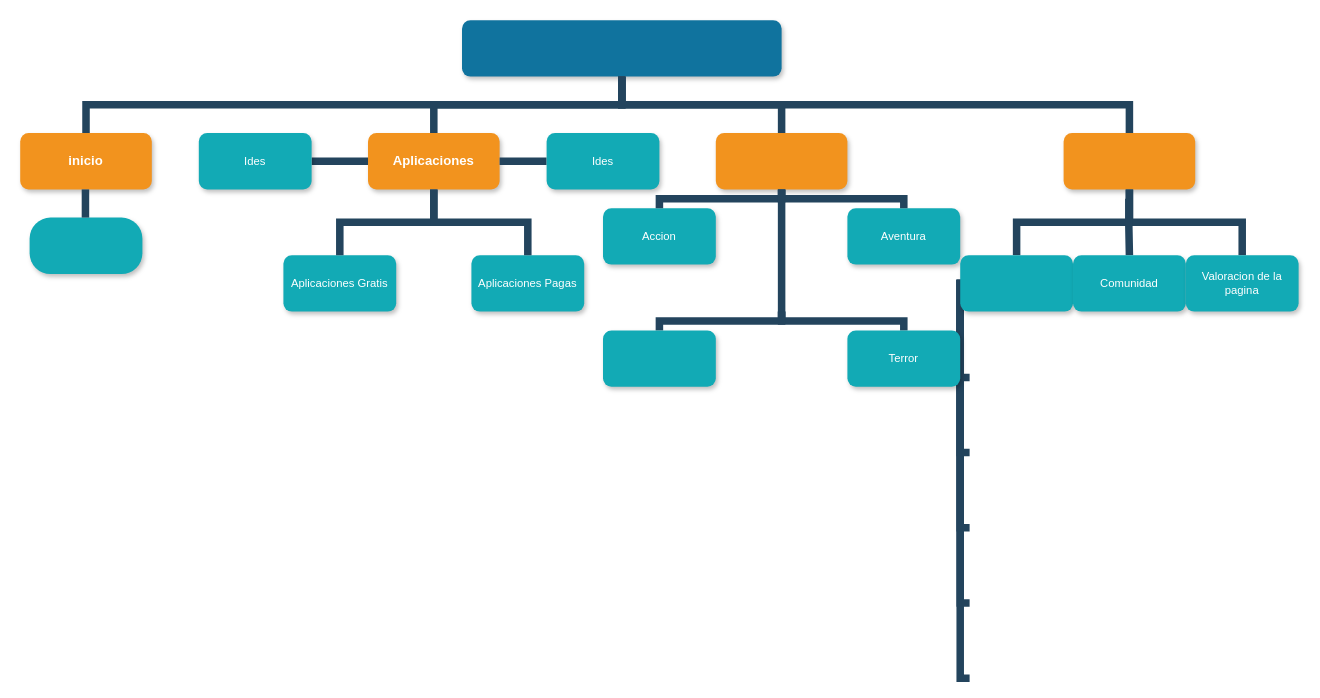
Some shapes in this 1320 by 698 pixel diagram are drawn without their labels. Here are the shapes that lost their labels. From the top down, the centre of each, then its label:
(622,49): Busqueda Facil
(782,162): Juegos
(1129,162): Ayuda
(86,246): Pagina de Bienvenida
(1017,284): Foro de Consulta
(660,359): Estrategia
